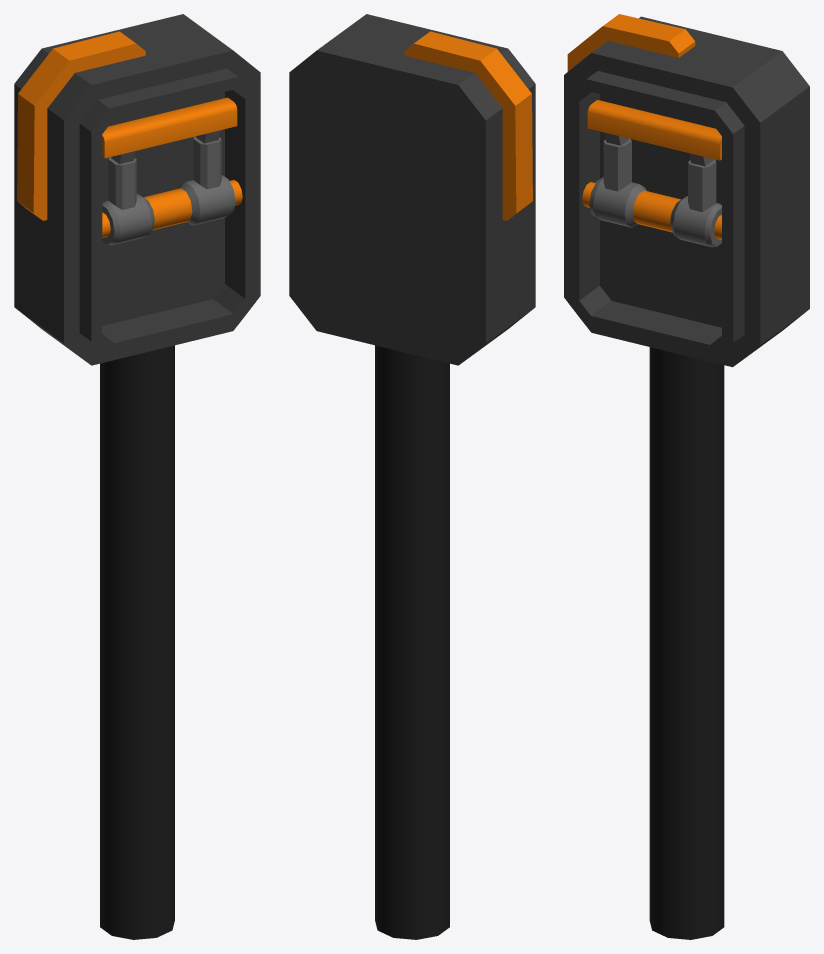
The model's file is Lever.fbx.
The picture shows the model from 3 angles, left to right: view 1: azimuth 30°, elevation 25°; view 2: azimuth 150°, elevation 25°; view 3: azimuth 330°, elevation 25°; orthographic projection.
Parts seen in each view (by area): view 1: Lever_Base, Lever; view 2: Lever_Base; view 3: Lever_Base, Lever.
Part boxes in pixels (x1,y1,x2,y2): Lever_Base: [14, 14, 260, 939]; Lever: [102, 97, 242, 245]; Lever_Base: [289, 14, 535, 939]; Lever_Base: [564, 14, 809, 939]; Lever: [582, 100, 721, 247].
Bounding box in the file's own units: 32.15 × 130 × 16.8.
